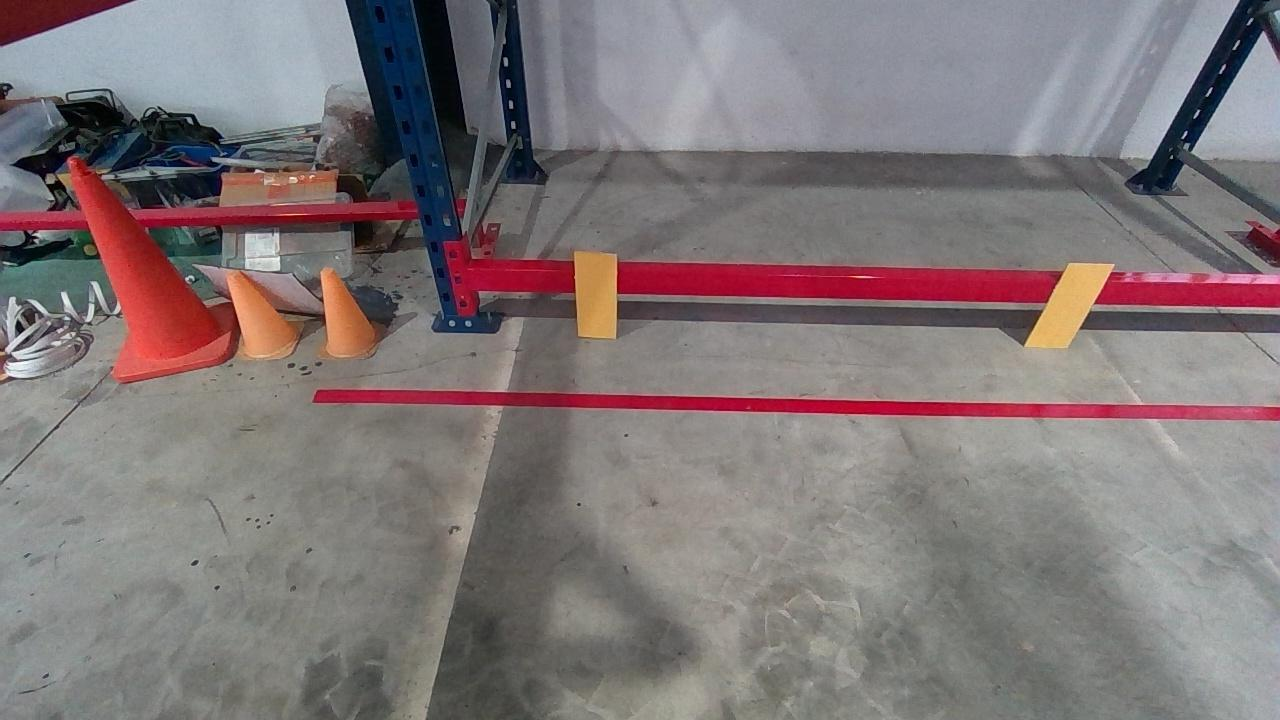h_rack: (472, 267, 1273, 308)
orange_strip: (1024, 262, 1120, 347), (572, 251, 617, 337)
red_line: (308, 389, 1276, 420)
